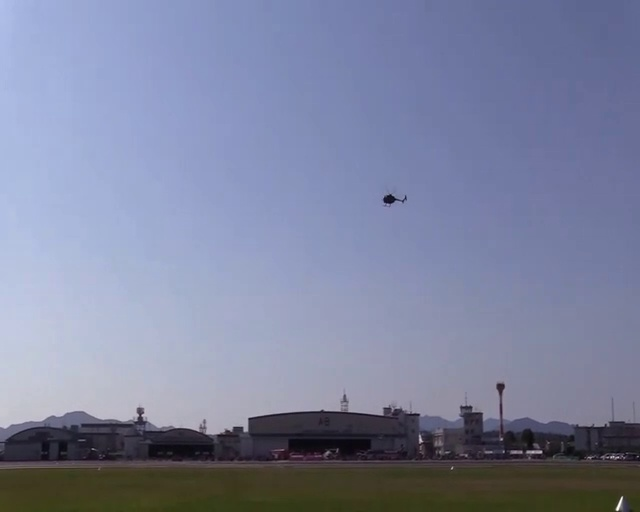HELICOPTER: (382, 191, 408, 207)
